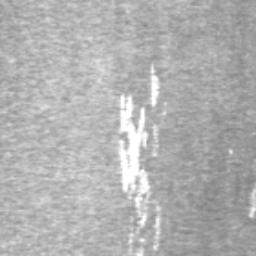White rust: (117, 93, 162, 251), (150, 63, 160, 107), (248, 187, 256, 218), (152, 124, 159, 157), (136, 246, 144, 256), (162, 102, 168, 115)
